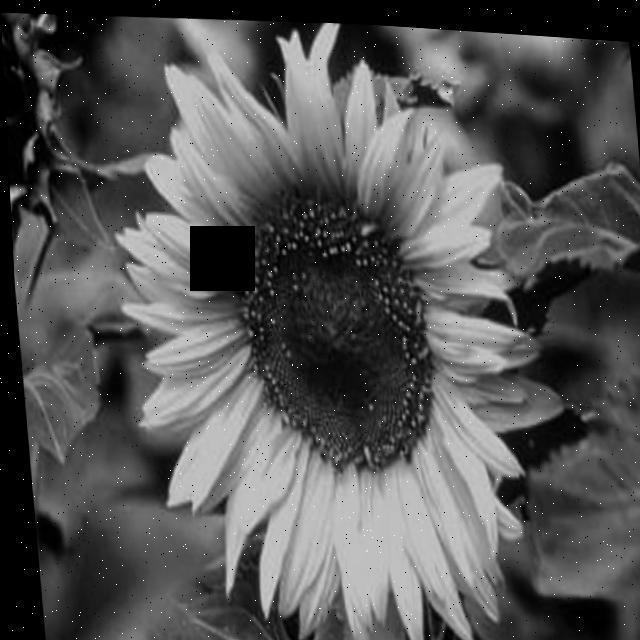sunflower: (0, 0, 634, 640)
